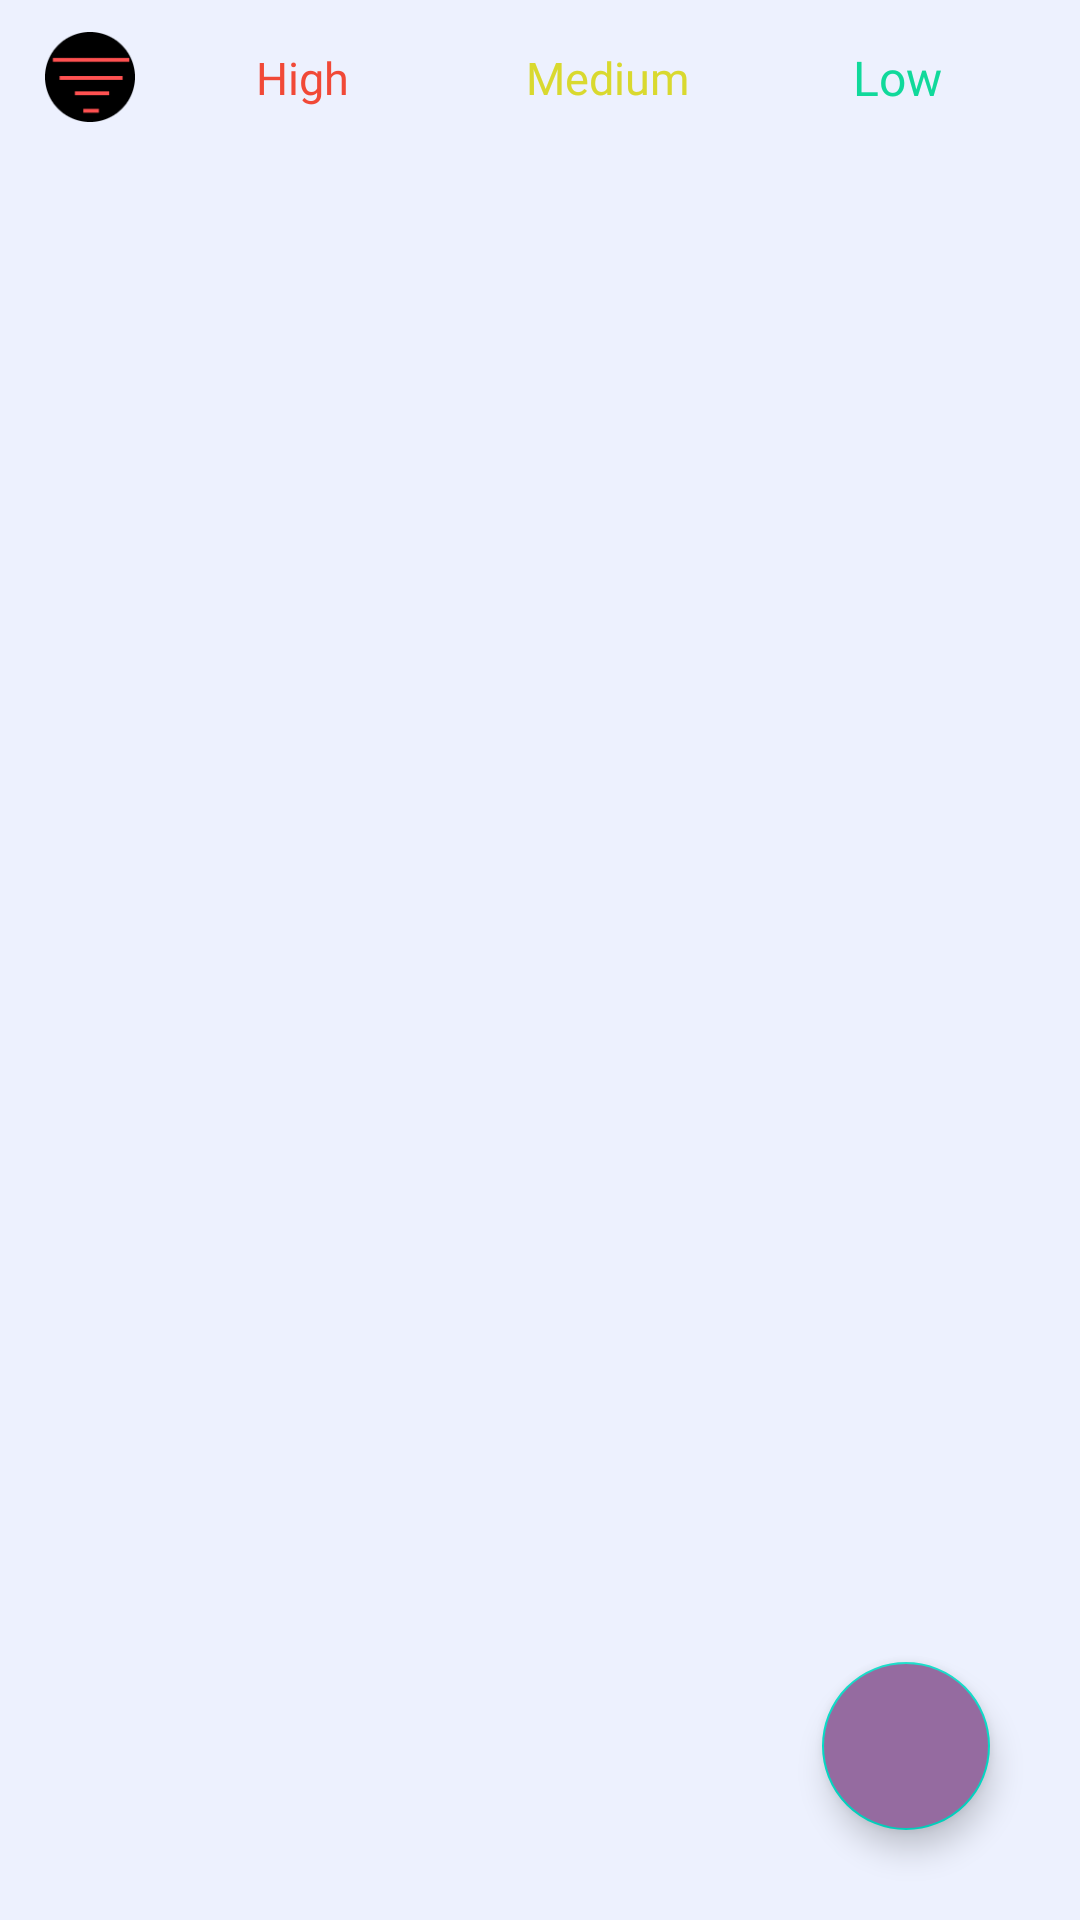

Icons on this 1080x1920 Android screen, each with its box as region(x1, y1, x2, y2):
filtering: region(45, 32, 135, 122)
